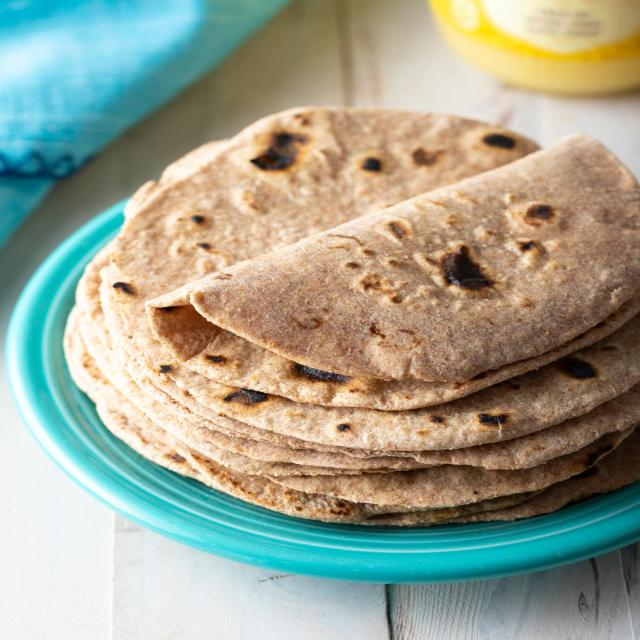chapathi: (45, 94, 640, 543), (133, 126, 640, 417)
